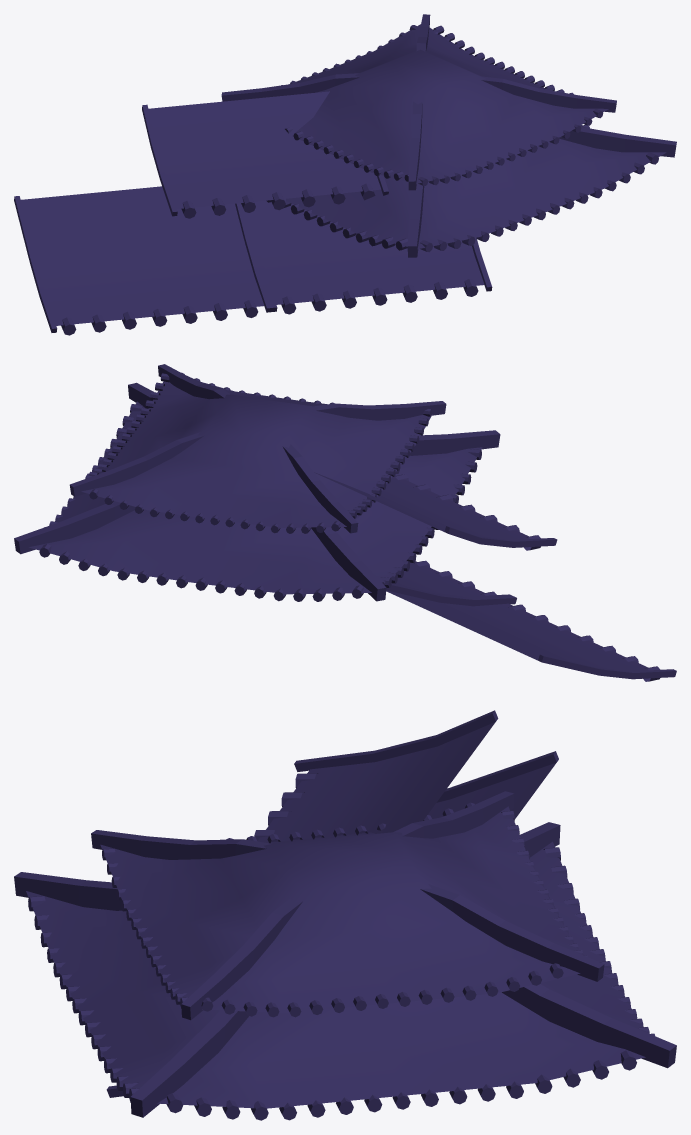
The model's file is toit chinois en pente 03.fbx.
3 views of the same model, one above another, from view 1: azimuth 30°, elevation 25°; view 2: azimuth 150°, elevation 25°; view 3: azimuth 270°, elevation 25° (orthographic). The views are drawn at different scales.
Visible parts, largest first — view 1: Plane.565, Cube.426, Plane.566, Cube.429, Cube.424, Cube.428, Circle.122, Circle.121, Circle.120, Circle.123; view 2: Cube.426, Cube.429, Plane.565, Cube.424, Cube.428, Plane.566, Circle.121, Circle.122, Circle.123, Circle.120; view 3: Cube.426, Cube.429, Plane.566, Cube.424, Cube.428, Circle.123, Plane.565, Circle.121, Circle.122, Circle.120.
Part boxes in pixels (left/top/right/bottom): Plane.565: left=14, top=186, right=492, bottom=335; Cube.426: left=289, top=24, right=608, bottom=183; Plane.566: left=142, top=91, right=388, bottom=218; Cube.429: left=285, top=125, right=666, bottom=248; Cube.424: left=221, top=14, right=616, bottom=190; Cube.428: left=407, top=127, right=676, bottom=257; Circle.122: left=420, top=152, right=658, bottom=252; Circle.121: left=285, top=25, right=573, bottom=181; Circle.120: left=281, top=25, right=603, bottom=185; Circle.123: left=266, top=124, right=589, bottom=250; Cube.426: left=81, top=381, right=432, bottom=527; Cube.429: left=29, top=401, right=482, bottom=594; Plane.565: left=386, top=560, right=676, bottom=681; Cube.424: left=69, top=364, right=446, bottom=533; Cube.428: left=14, top=382, right=500, bottom=601; Plane.566: left=314, top=468, right=557, bottom=550; Circle.121: left=85, top=373, right=432, bottom=518; Circle.122: left=39, top=544, right=363, bottom=601; Circle.123: left=44, top=404, right=481, bottom=587; Circle.120: left=89, top=372, right=340, bottom=533; Cube.426: left=100, top=806, right=582, bottom=1013; Cube.429: left=26, top=841, right=648, bottom=1108; Plane.566: left=254, top=710, right=498, bottom=842; Cube.424: left=91, top=791, right=604, bottom=1020; Cube.428: left=14, top=822, right=676, bottom=1117; Circle.123: left=166, top=1050, right=636, bottom=1120; Plane.565: left=106, top=751, right=558, bottom=1097; Circle.121: left=201, top=802, right=563, bottom=1017; Circle.122: left=28, top=847, right=654, bottom=1102; Circle.120: left=102, top=810, right=587, bottom=1007.
Size of the model in its own units: 16.03 by 4.46 by 10.66.
